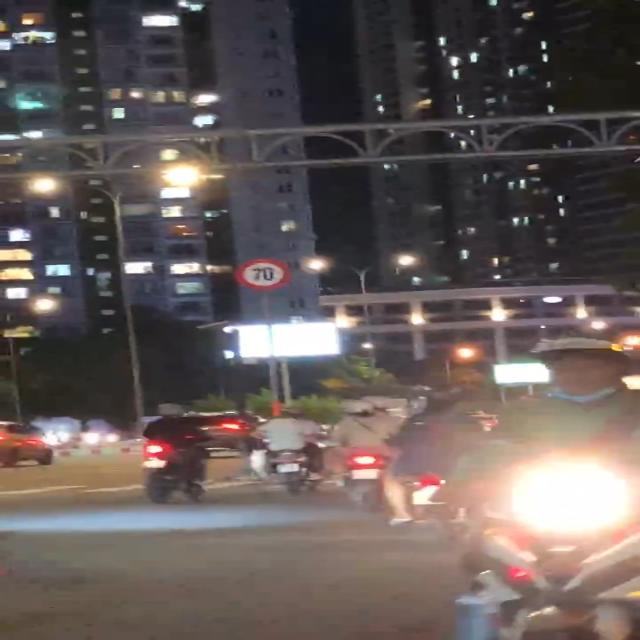Bien bao toc do toi da cho phep: (232, 257, 293, 293)
